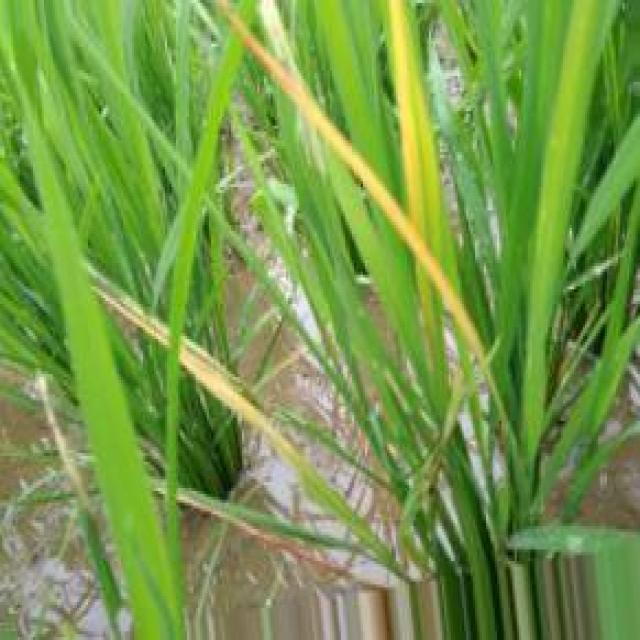Rice Tungro: (222, 0, 484, 363), (180, 336, 316, 473), (387, 0, 447, 260), (90, 267, 170, 347)
